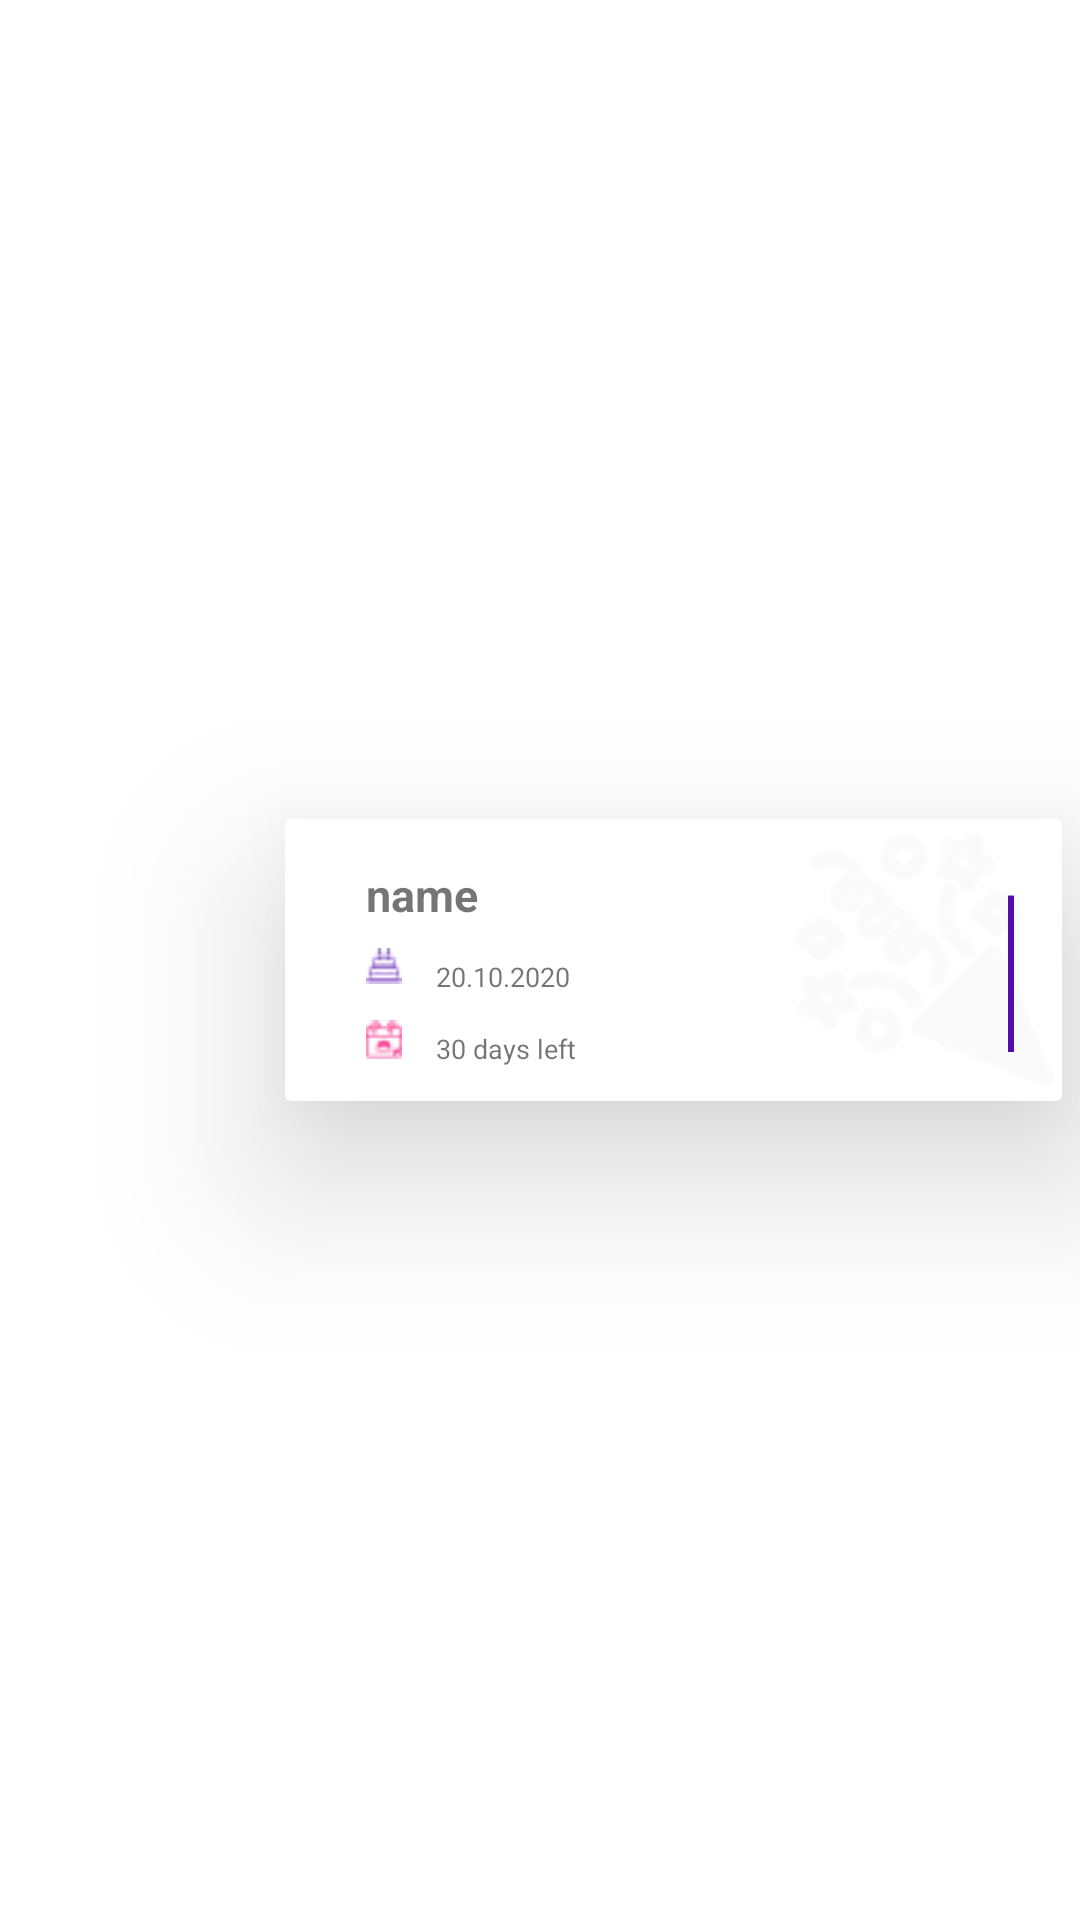

Where icons sit on this 1080×1920 app screen, as (x1, y1, x2, y2):
cake: (366, 948, 402, 984)
calender: (366, 1020, 402, 1059)
